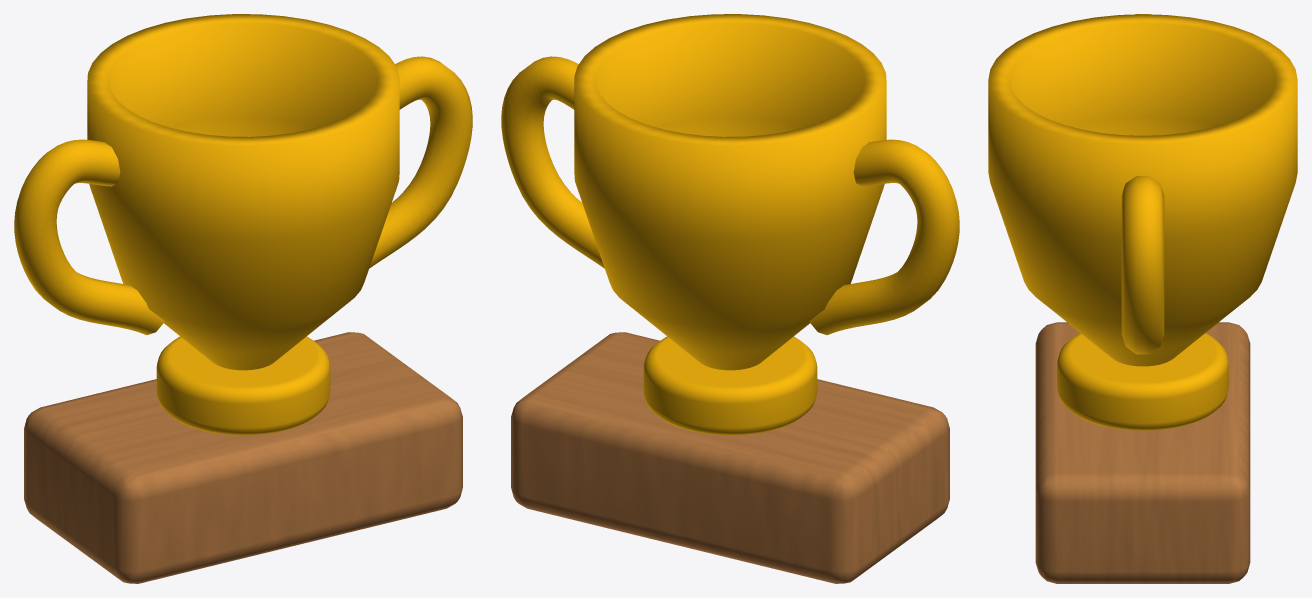
File: display-week-hero.glb
3 renders of one model, left to right at view 1: azimuth 30°, elevation 25°; view 2: azimuth 150°, elevation 25°; view 3: azimuth 270°, elevation 25°, orthographic.
Visible parts, largest first — view 1: Trophy bowl, Wooden award plinth.012, Trophy foot, Trophy handle, Trophy handle.001; view 2: Trophy bowl, Wooden award plinth.012, Trophy foot, Trophy handle, Trophy handle.001; view 3: Trophy bowl, Wooden award plinth.012, Trophy foot, Trophy handle.001.
Part boxes in pixels (x1,y1,x2,y2): Trophy bowl: (87, 14, 399, 370); Wooden award plinth.012: (24, 332, 462, 583); Trophy foot: (156, 336, 330, 435); Trophy handle: (14, 139, 164, 334); Trophy handle.001: (369, 56, 472, 268); Trophy bowl: (574, 14, 886, 370); Wooden award plinth.012: (511, 332, 949, 583); Trophy foot: (643, 336, 817, 435); Trophy handle: (809, 139, 959, 334); Trophy handle.001: (501, 56, 604, 268); Trophy bowl: (988, 14, 1297, 366); Wooden award plinth.012: (1035, 322, 1250, 583); Trophy foot: (1057, 333, 1228, 430); Trophy handle.001: (1121, 176, 1164, 354).
Size of the model in its own units: 0.6004 by 0.55 by 0.36.
Materials: 2 (1 with a texture image).
